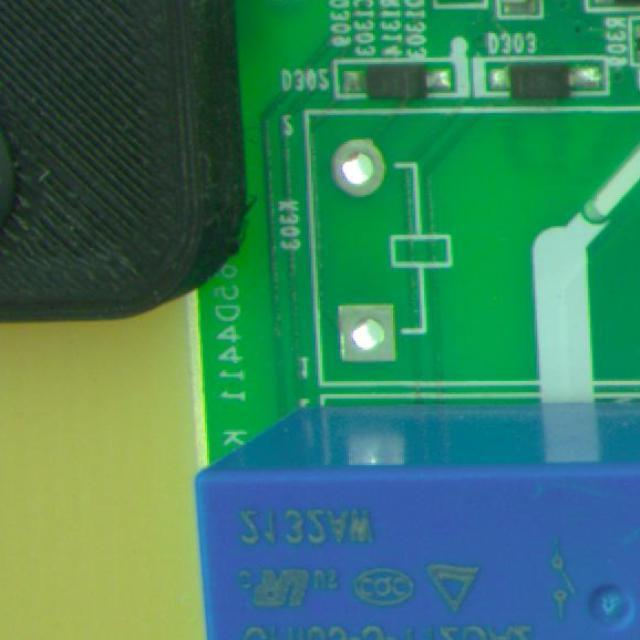Insufficient solder: (316, 293, 404, 377), (327, 128, 398, 202)
